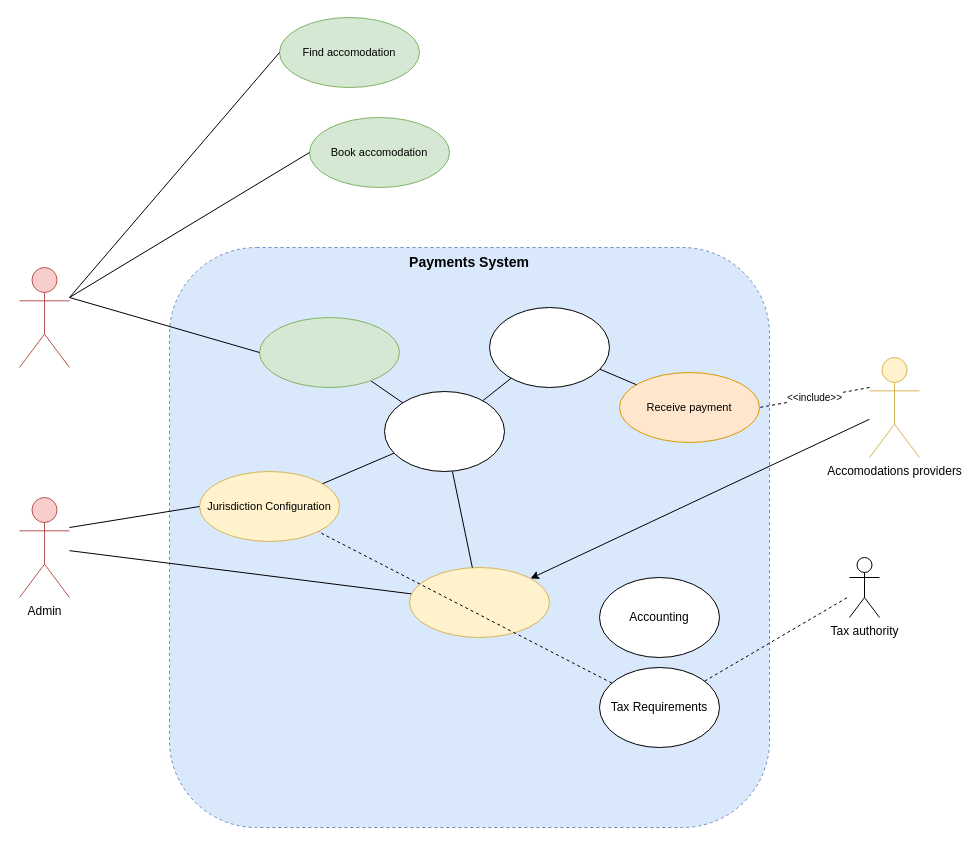
This 979x845 diagram has some shape labels left out. Here are the shapes that lost their labels. From the top down, the box of each, then its label:
(18, 266, 70, 368): Consumer
(258, 316, 400, 388): Pay for accomodation
(488, 306, 610, 388): Process transfer
(384, 390, 504, 472): Evaluate Transfer against regulations
(408, 566, 550, 638): Contract Management
